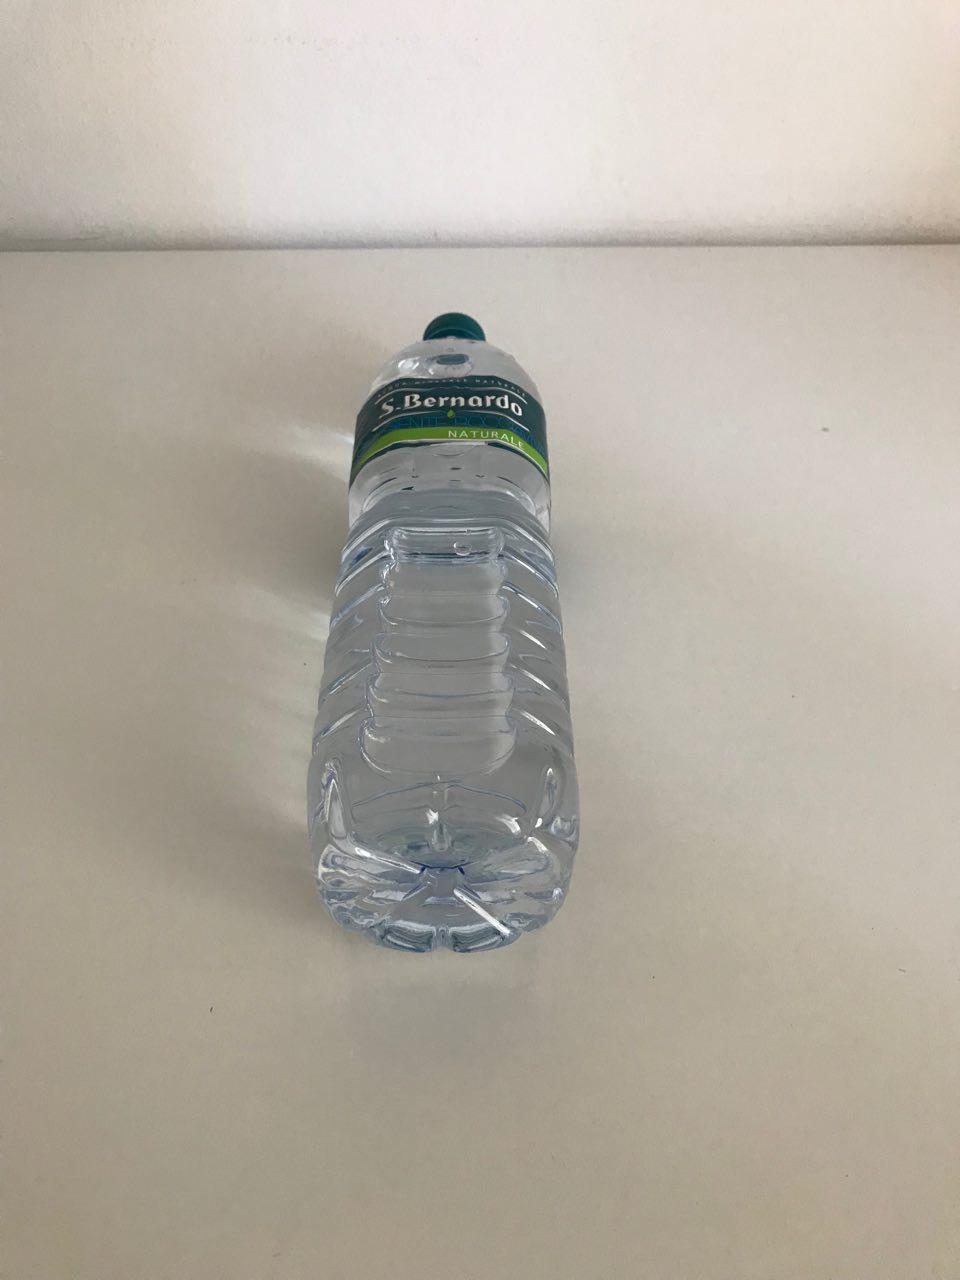san_bernardo: (304, 310, 583, 957)
